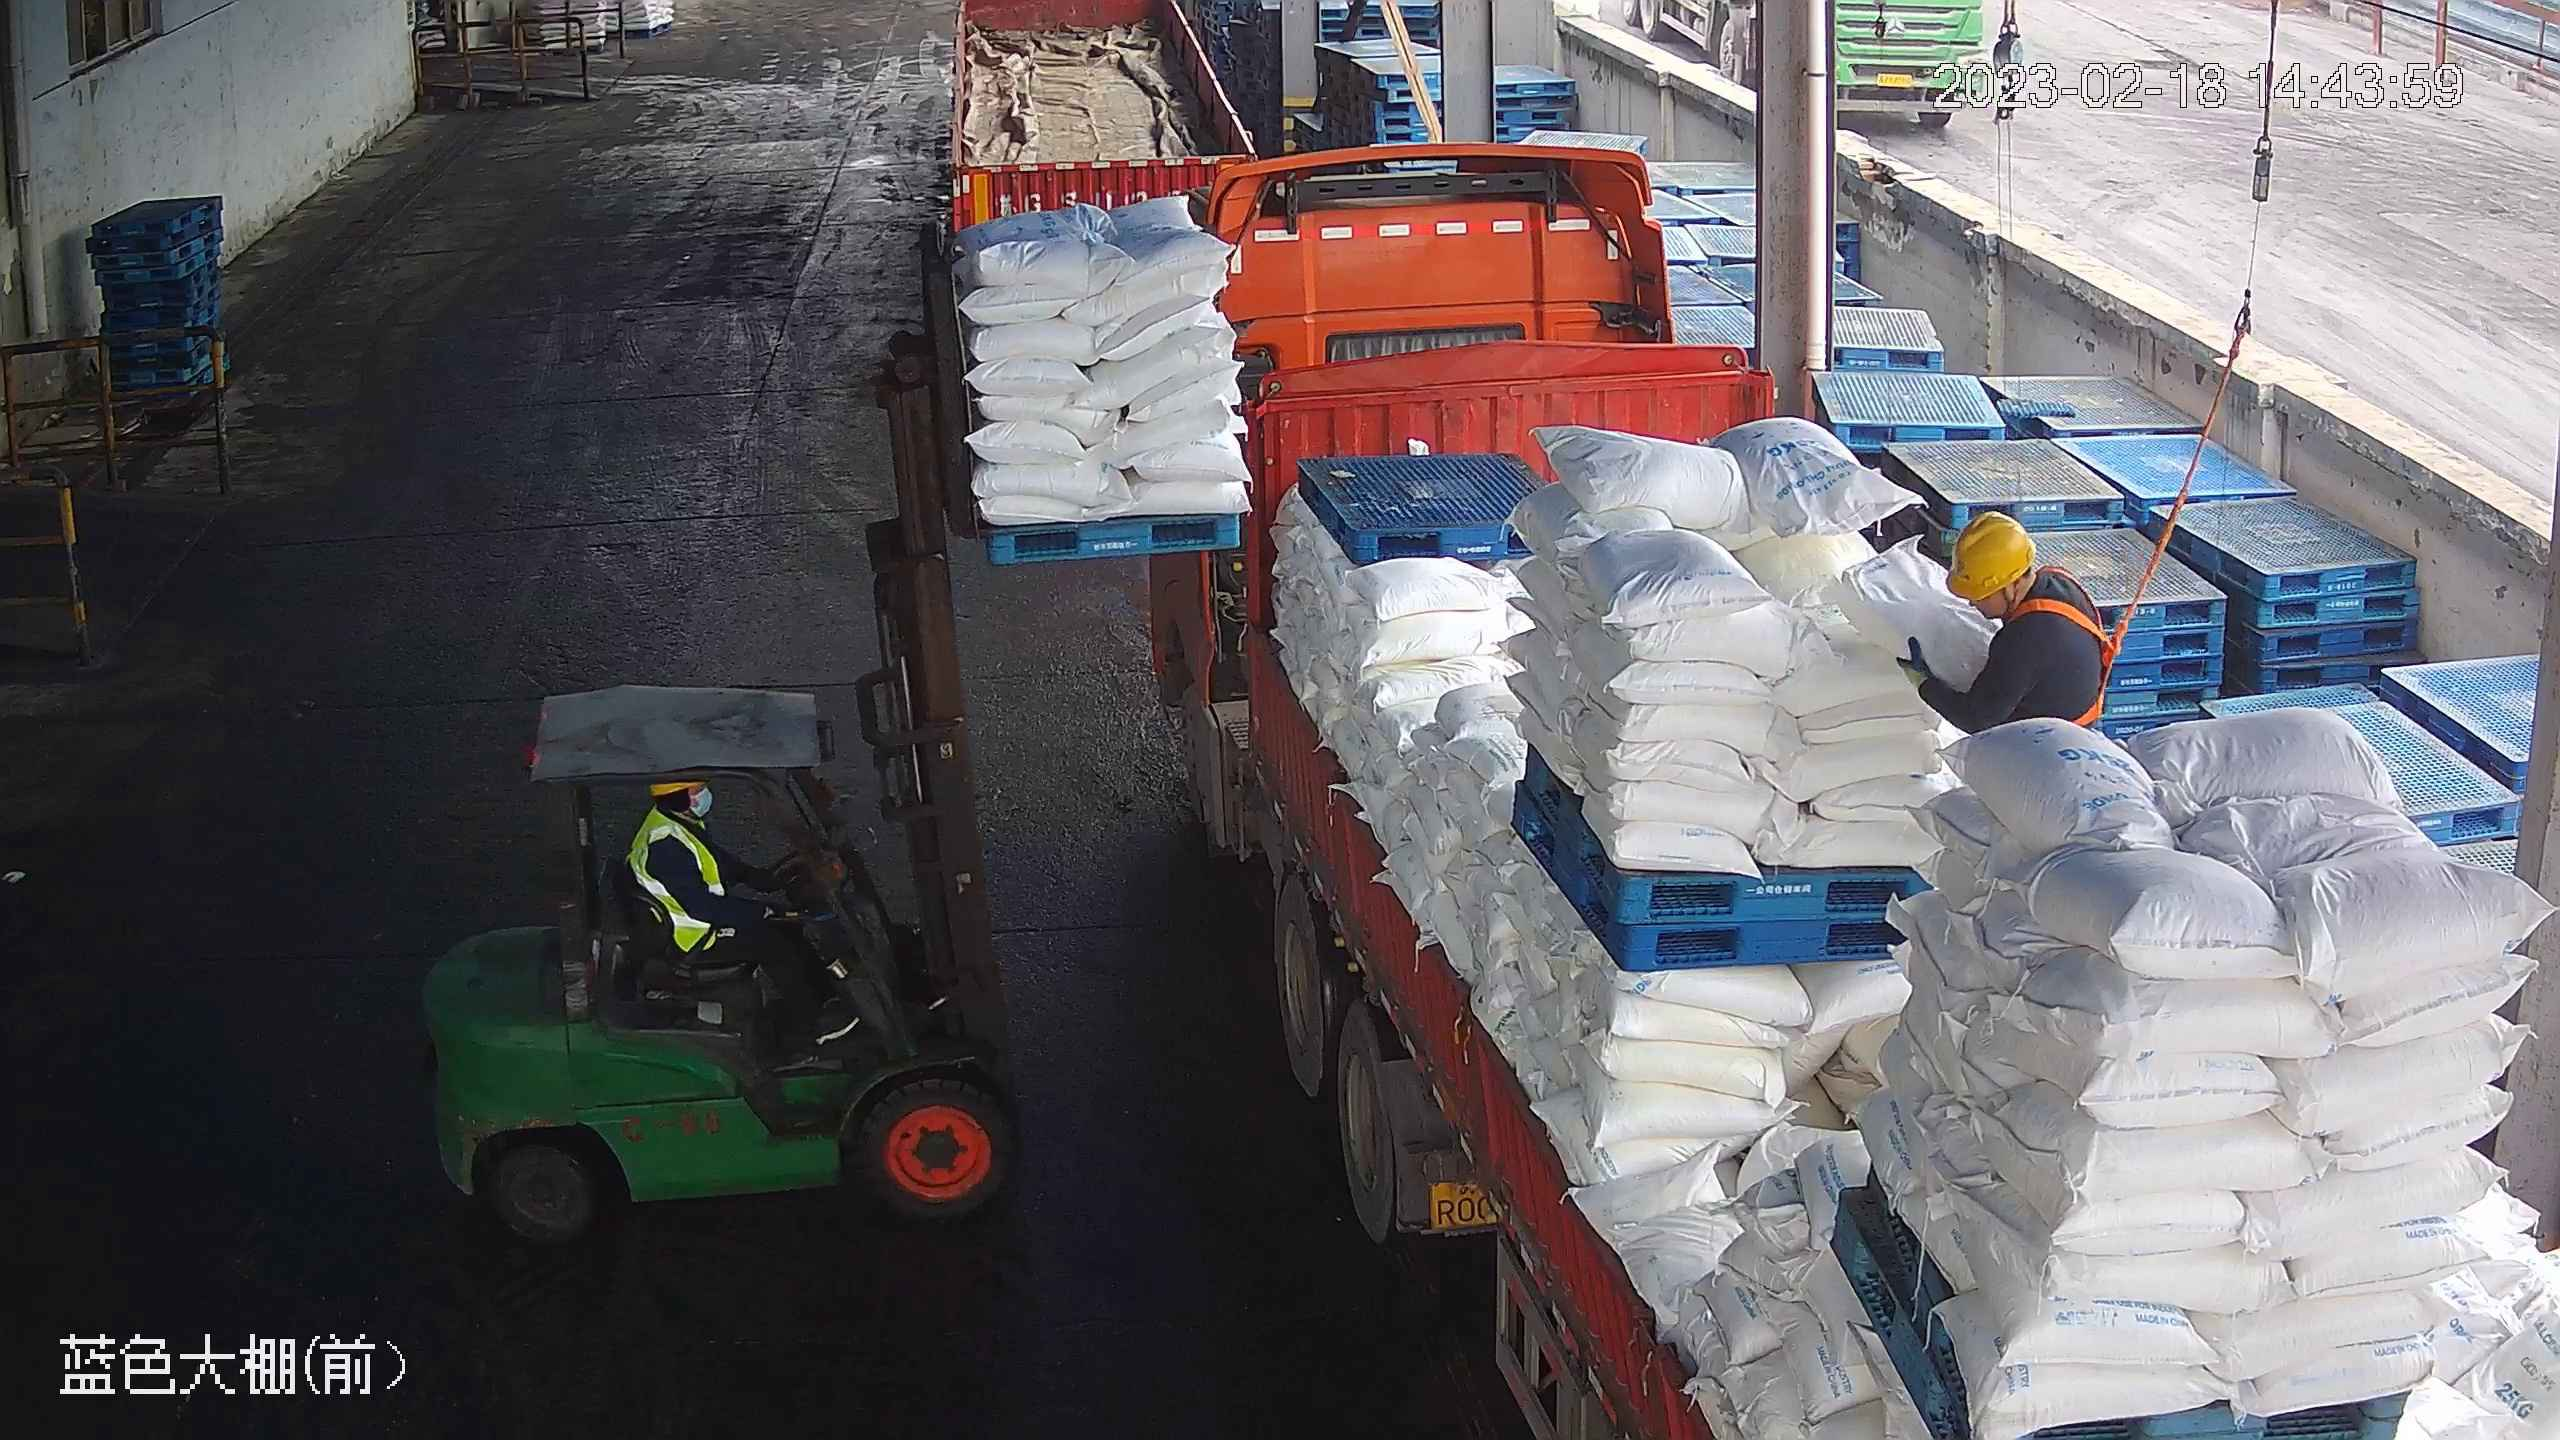belt: (2016, 570, 2122, 725)
head: (1944, 513, 2100, 680), (633, 778, 724, 874)
helmet: (1944, 512, 2099, 677), (1945, 513, 2038, 598)
people: (631, 775, 835, 1030)
truck: (1149, 142, 2558, 1437), (947, 1, 1259, 233)
